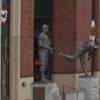Statue: (32, 14, 58, 79)
